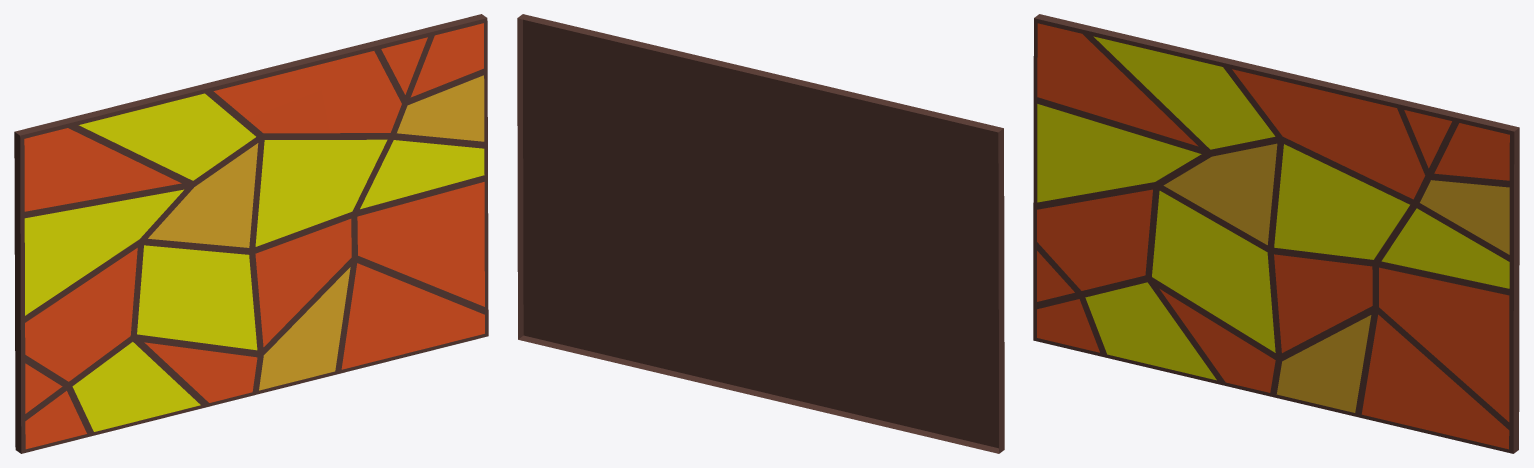
The model's file is Scenery1.fbx.
The picture shows the model from 3 angles, left to right: view 1: azimuth 30°, elevation 25°; view 2: azimuth 150°, elevation 25°; view 3: azimuth 330°, elevation 25°; orthographic projection.
Parts seen in each view (by area): view 1: Scenery1; view 2: Scenery1; view 3: Scenery1.
Boxes of the visible parts, x1=… form: Scenery1: x1=14, y1=14, x2=488, y2=453; Scenery1: x1=517, y1=14, x2=1004, y2=453; Scenery1: x1=1033, y1=14, x2=1519, y2=453.
Size of the model in its own units: 61.23 by 39.49 by 2.33.
